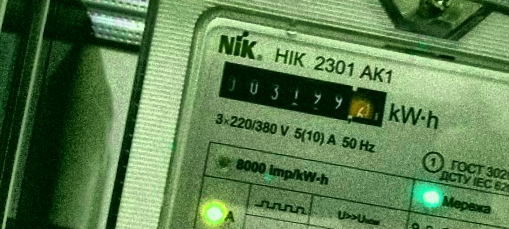0: (222, 70, 237, 93), (245, 74, 260, 95)
1: (289, 80, 302, 100)
3: (267, 80, 280, 100)
6: (354, 102, 366, 119)
9: (309, 84, 323, 105), (330, 89, 344, 110)
screen: (209, 55, 397, 135)
